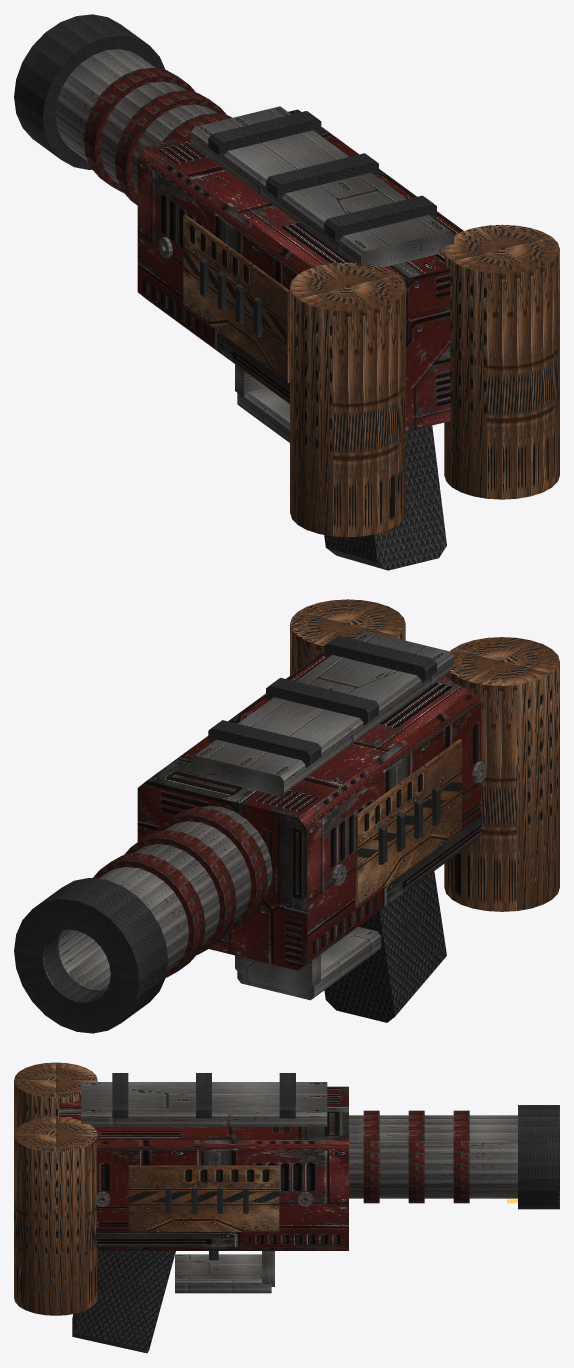
Rendered from flamethrower.gltf.
The picture shows the model from 3 angles, top to bottom: view 1: azimuth 30°, elevation 25°; view 2: azimuth 150°, elevation 25°; view 3: azimuth 270°, elevation 25°; orthographic projection. The views are drawn at different scales.
Visible parts, largest first — view 1: FuelTank (×2), Receiver, TopRail, InsetPanel, Muzzle, Barrel, Grip, RailNotch (×3), CoolingCollar (×3), TriggerGuard; view 2: Receiver, FuelTank (×2), Muzzle, TopRail, Barrel, Grip, InsetPanel, CoolingCollar (×3), RailNotch (×3), TriggerGuard, GuardFront; view 3: Receiver, FuelTank (×2), Barrel, InsetPanel, TopRail, Grip, CoolingCollar (×3), Muzzle, TriggerGuard, RailNotch (×3), GuardFront.
Part boxes in pixels (left/top/right/bottom): FuelTank (×2): left=290, top=224, right=559, bottom=537; Receiver: left=137, top=109, right=463, bottom=431; TopRail: left=190, top=106, right=454, bottom=267; InsetPanel: left=183, top=214, right=289, bottom=382; Muzzle: left=14, top=14, right=165, bottom=169; Barrel: left=55, top=49, right=217, bottom=193; Grip: left=324, top=425, right=446, bottom=570; RailNotch (×3): left=208, top=111, right=436, bottom=242; CoolingCollar (×3): left=83, top=67, right=232, bottom=205; TriggerGuard: left=237, top=387, right=289, bottom=442; Receiver: left=137, top=653, right=481, bottom=970; FuelTank (×2): left=290, top=599, right=559, bottom=911; Muzzle: left=14, top=878, right=168, bottom=1033; TopRail: left=190, top=631, right=454, bottom=796; Barrel: left=57, top=805, right=272, bottom=992; Grip: left=324, top=871, right=446, bottom=1022; InsetPanel: left=355, top=739, right=461, bottom=907; CoolingCollar (×3): left=93, top=807, right=267, bottom=977; RailNotch (×3): left=208, top=635, right=436, bottom=767; TriggerGuard: left=237, top=926, right=381, bottom=1000; GuardFront: left=235, top=954, right=320, bottom=994; Receiver: left=59, top=1086, right=348, bottom=1250; FuelTank (×2): left=14, top=1062, right=97, bottom=1315; Barrel: left=349, top=1115, right=517, bottom=1198; InsetPanel: left=128, top=1165, right=279, bottom=1232; TopRail: left=81, top=1082, right=327, bottom=1126; Grip: left=72, top=1251, right=175, bottom=1353; CoolingCollar (×3): left=363, top=1110, right=469, bottom=1203; Muzzle: left=518, top=1105, right=559, bottom=1209; TriggerGuard: left=175, top=1254, right=271, bottom=1293; RailNotch (×3): left=112, top=1073, right=295, bottom=1118; GuardFront: left=262, top=1251, right=274, bottom=1286.
Bounding box in the file's own units: 0.2475 × 0.3271 × 0.6356.
5 materials, 4 textured.
